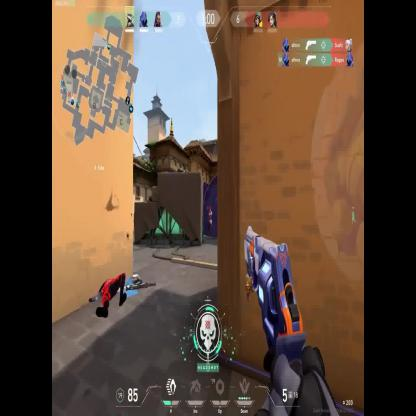enemy: (208, 205, 212, 234)
enemy_head: (210, 207, 212, 211)
